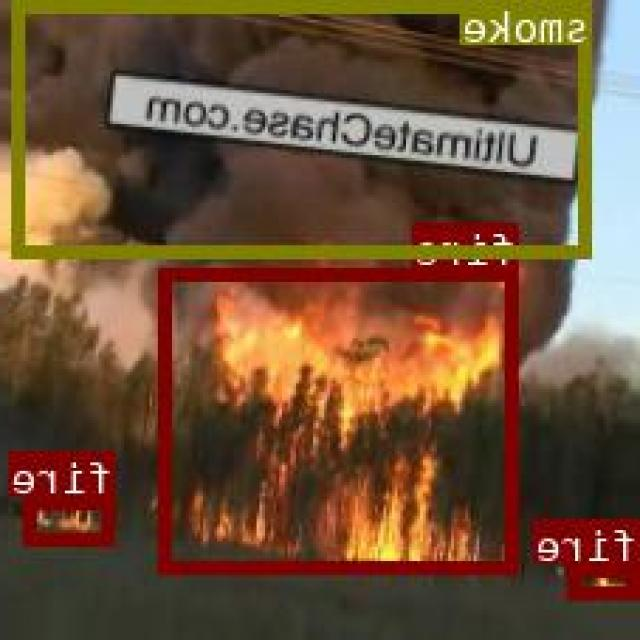fire: (161, 267, 520, 572), (27, 496, 118, 542), (572, 561, 640, 598)
smoke: (17, 0, 592, 257)
